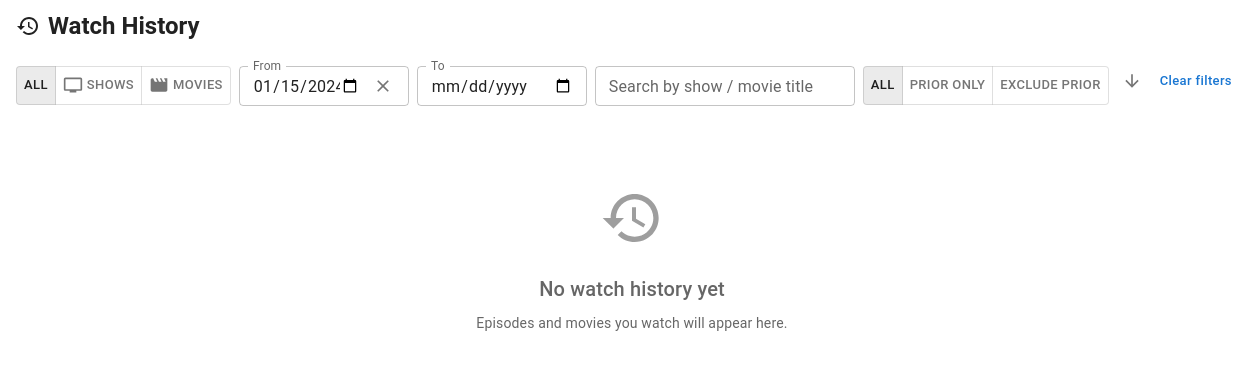
Test: WatchHistory › date range validation › shows a date error when dateTo is set to a date before the current dateFrom
This screenshot has width=1248, height=392.
In the date field labelled "To": (502, 86) [417,66,587,106], type "2024-01-10"
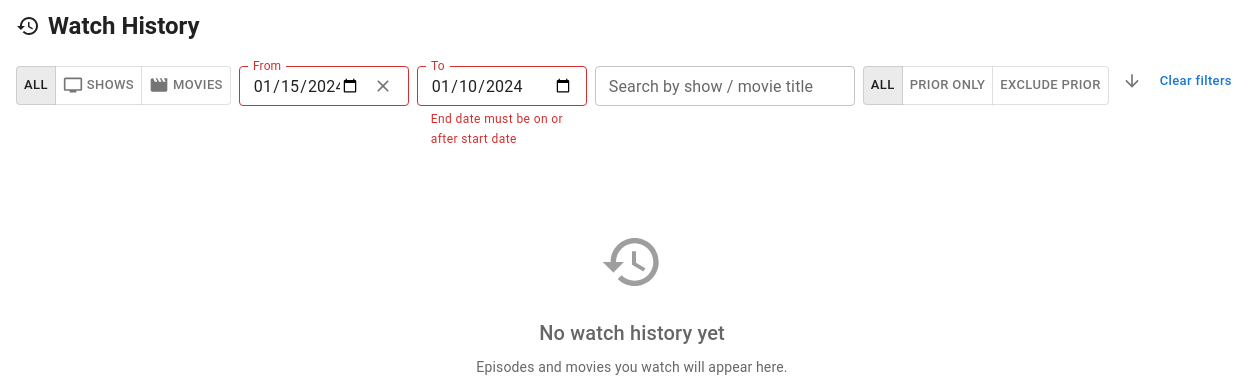
Check: the text "End date must be on or after start date" is shown, box [431,110,573,150]
